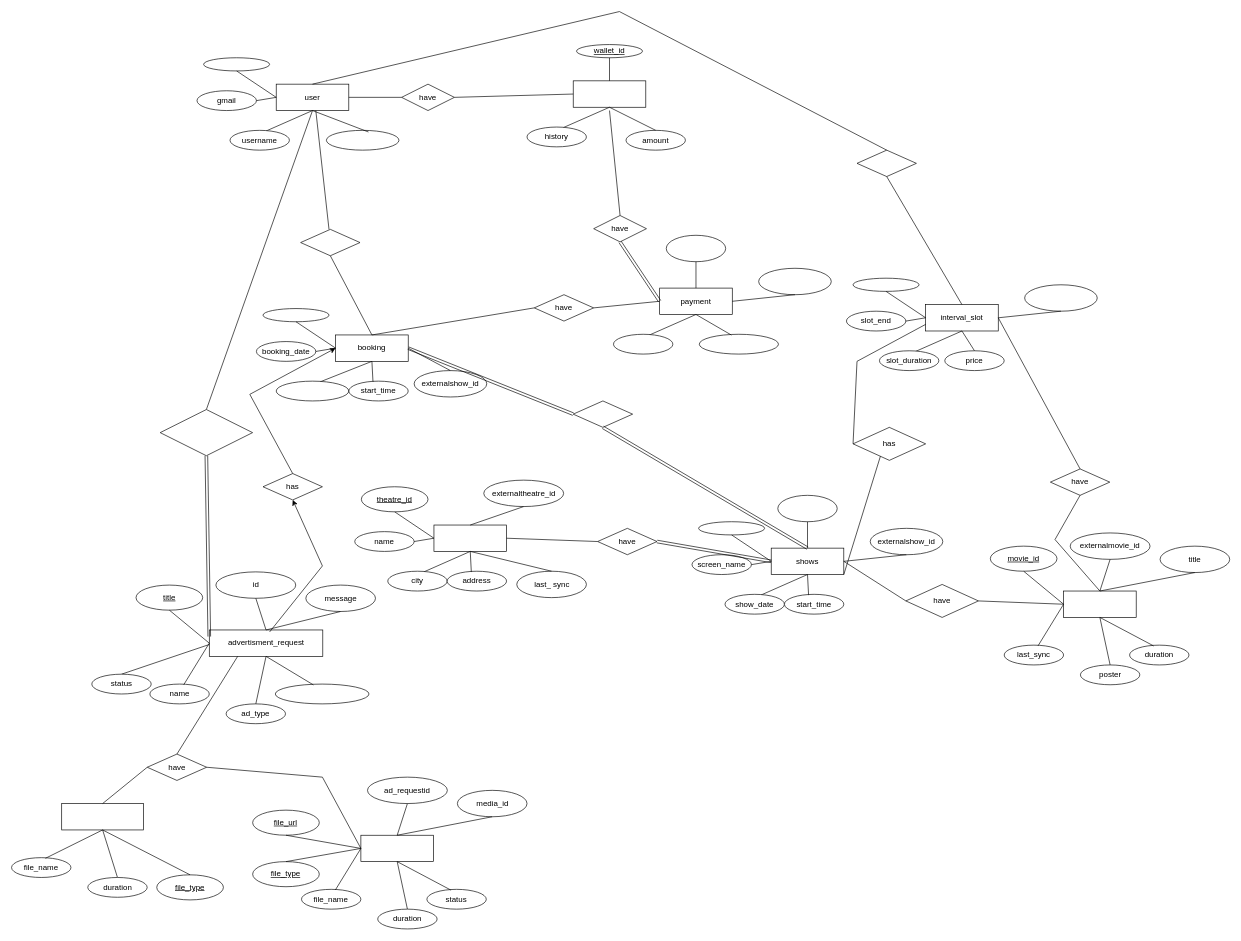
The diagram is 1241 pixels wide and 941 high, and some of its shapes have lost their labels. Here are the shapes that lost their labels. From the top down, the centre of each, then its label:
At pixel 236 64: "userid".
At pixel 609 93: "wallet".
At pixel 362 140: "password".
At pixel 886 163: "book".
At pixel 330 242: "can".
At pixel 696 248: "pay_id".
At pixel 794 281: "pay_date".
At pixel 885 284: "slot_start".
At pixel 1060 297: "internal_id".
At pixel 295 315: "booking_id".
At pixel 643 344: "pay_status".
At pixel 738 344: "pay_amount".
At pixel 312 390: "theatre_booking".
At pixel 206 432: "may".
At pixel 603 413: "show_booking".
At pixel 731 528: "show_id".
At pixel 807 508: "end_time".
At pixel 470 537: "theatre".
At pixel 1099 603: "movies".
At pixel 322 693: "created_at".
At pixel 102 816: "advertisement_type".
At pixel 396 848: "media_assests".
